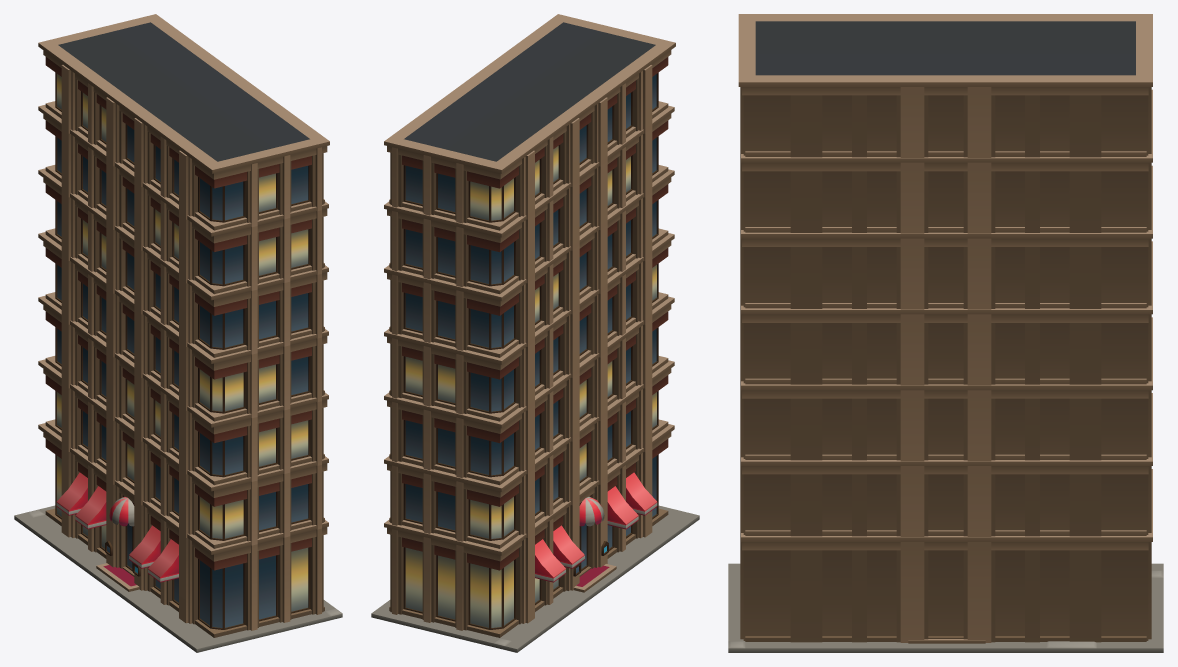
Rendered from Building_21A.fbx.
The picture shows the model from 3 angles, left to right: view 1: azimuth 30°, elevation 25°; view 2: azimuth 150°, elevation 25°; view 3: azimuth 270°, elevation 25°; orthographic projection. The views are drawn at different scales.
Parts seen in each view (by area): view 1: Building_21A, Window_Lights_21A, Canopy_21A; view 2: Building_21A, Window_Lights_21A, Canopy_21A; view 3: Building_21A.
Boxes of the visible parts, x1=… form: Building_21A: x1=14, y1=14, x2=342, y2=652; Window_Lights_21A: x1=57, y1=74, x2=308, y2=611; Canopy_21A: x1=56, y1=472, x2=178, y2=582; Building_21A: x1=371, y1=14, x2=699, y2=652; Window_Lights_21A: x1=405, y1=146, x2=656, y2=627; Canopy_21A: x1=535, y1=472, x2=657, y2=582; Building_21A: x1=728, y1=14, x2=1163, y2=652.
Size of the model in its own units: 1200 by 3730 by 2600.
